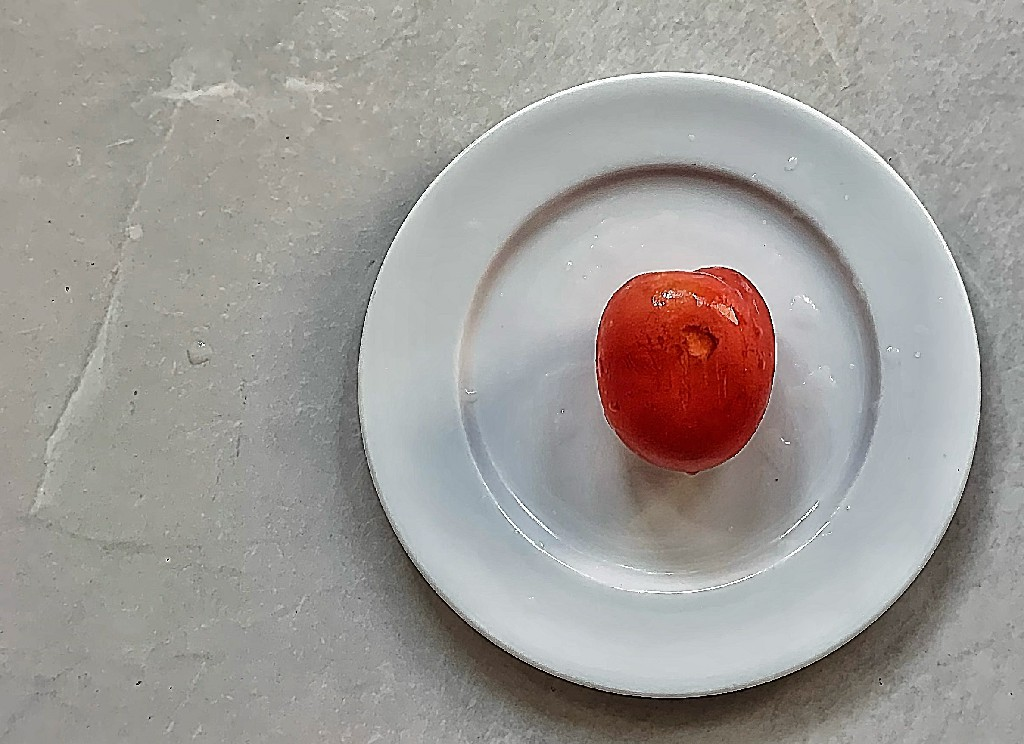NG: (591, 262, 781, 472)
